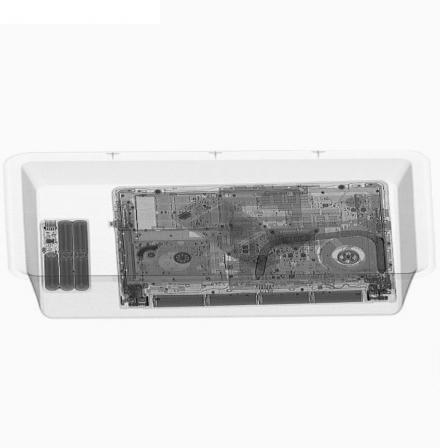Powerbank: (42, 220, 94, 291)
